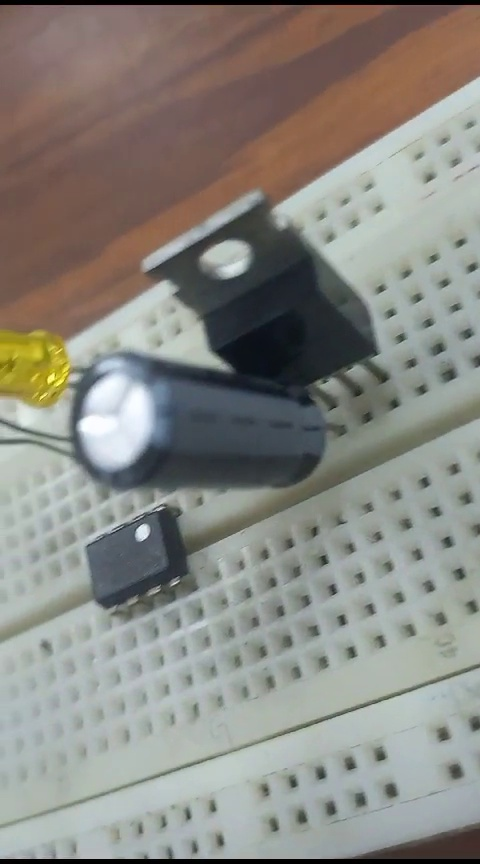IC: (74, 515, 186, 599)
LED: (6, 323, 66, 403)
capacitor: (72, 372, 346, 501)
voltage regulator: (143, 196, 380, 383)
